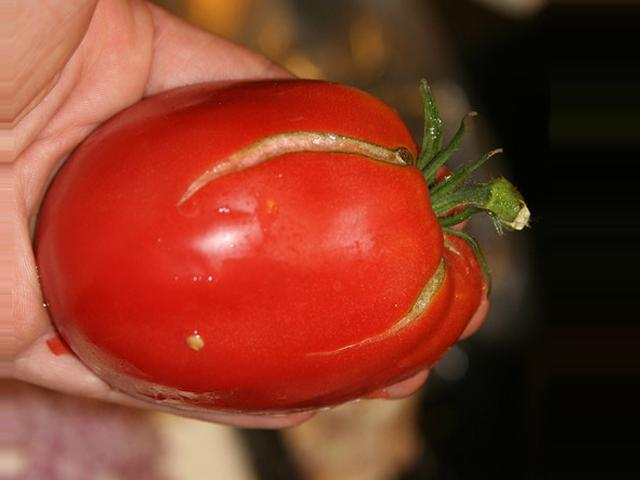tomato: (35, 83, 483, 413)
